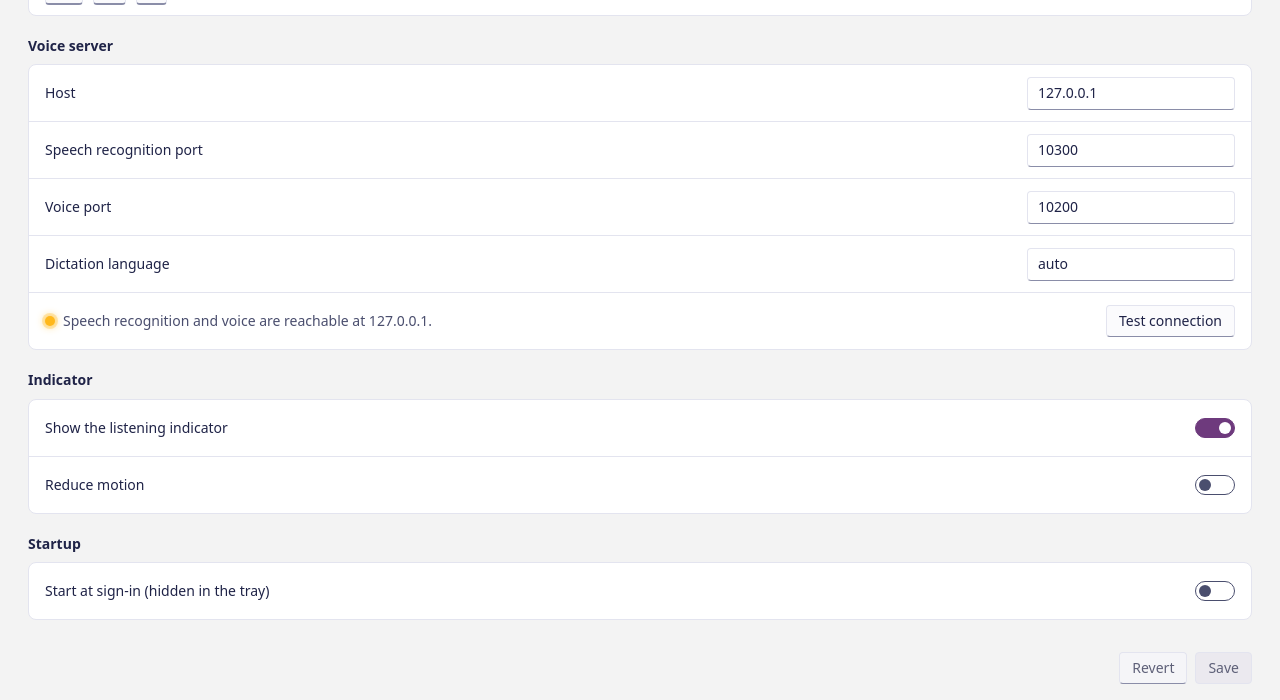
Test: SettingsWindow fields › turns switches on and off
The width and height of the screenshot is (1280, 700).
(page scrolled)
What coordinates should you click on to do the following:
click the switch labelled "Start at sign-in (hidden in the tray)"
I would click on:
 (1215, 591)
Its box is [1195,581,1235,601].
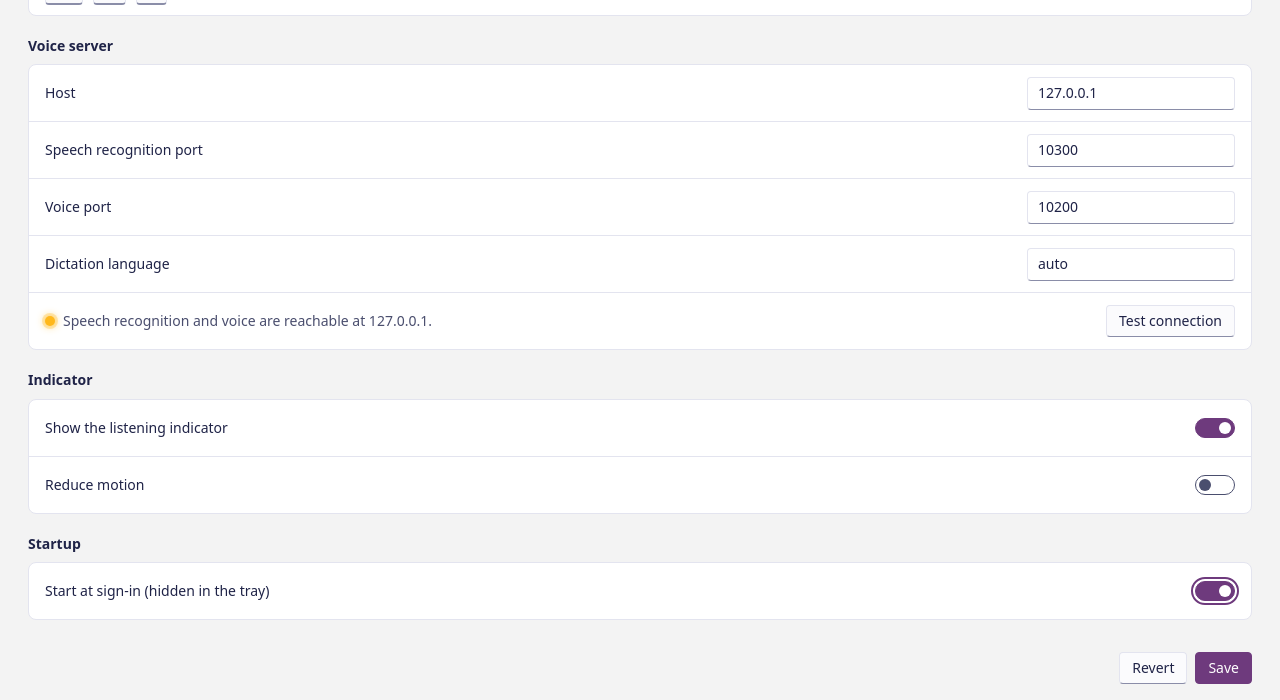
Now the switch labelled "Start at sign-in (hidden in the tray)" is checked, box [1195,581,1235,601]
